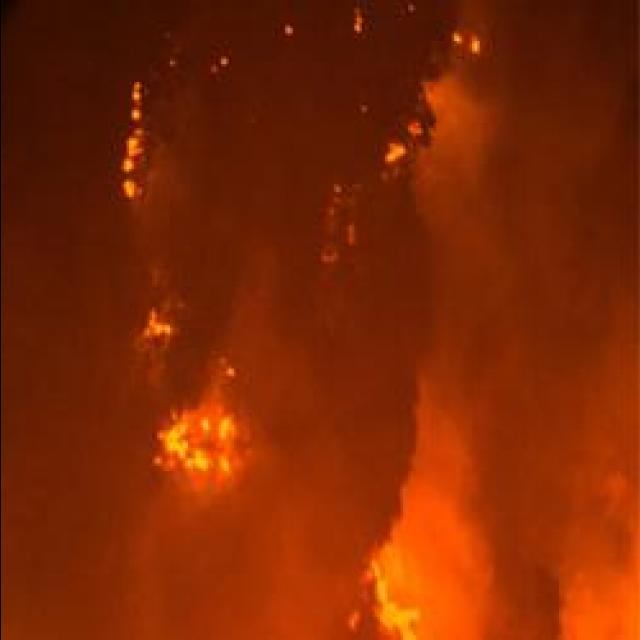fire: (159, 402, 246, 480), (119, 75, 149, 207)
smoke: (371, 483, 514, 640), (550, 571, 640, 640)
